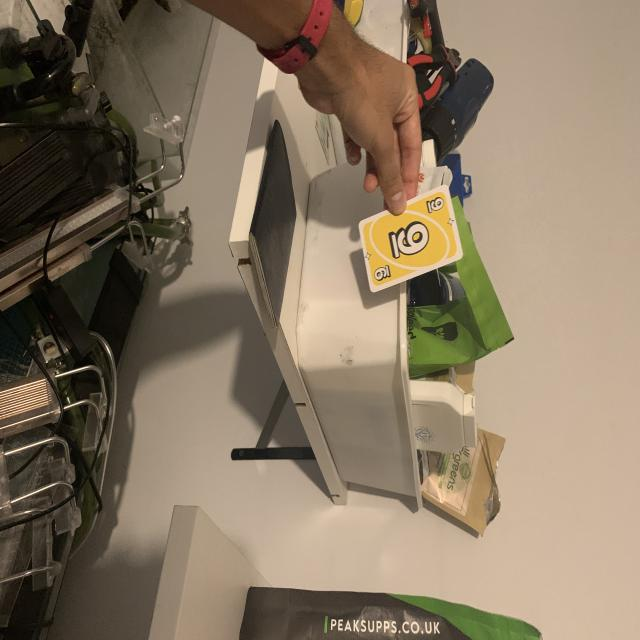lyellow-9: (423, 195, 447, 217)
